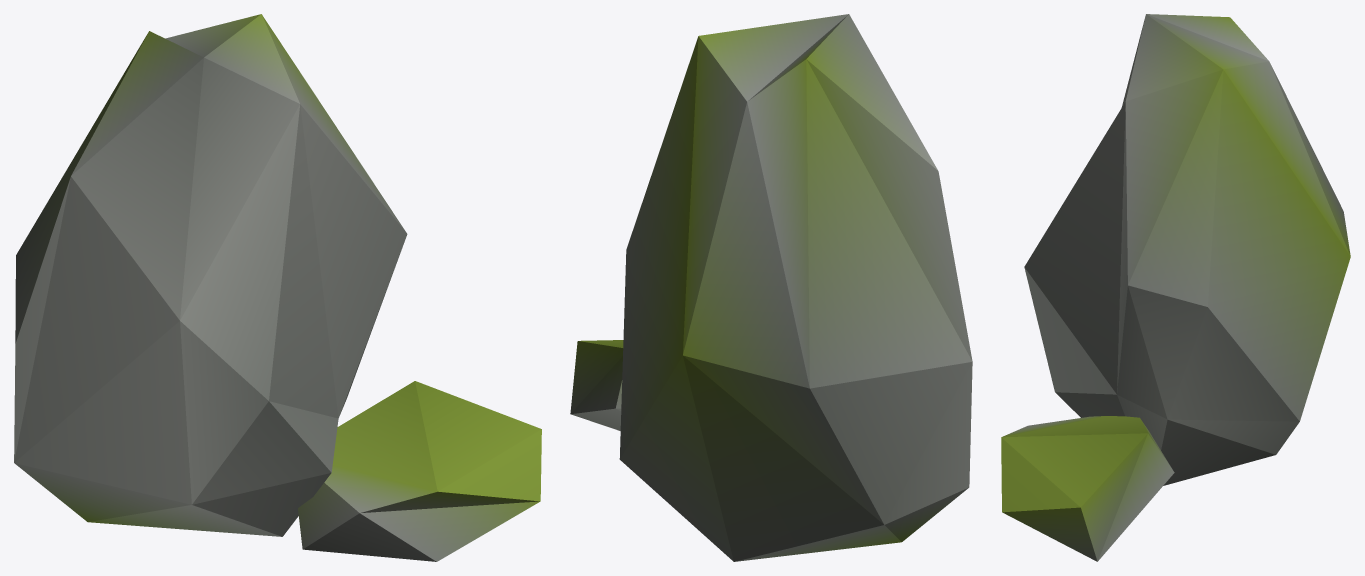
File: zen_rock_moss-lod1.glb
The picture shows the model from 3 angles, left to right: view 1: azimuth 30°, elevation 25°; view 2: azimuth 150°, elevation 25°; view 3: azimuth 270°, elevation 25°; orthographic projection. The views are drawn at different scales.
Parts seen in each view (by area): view 1: zen_rock_moss; view 2: zen_rock_moss; view 3: zen_rock_moss.
Boxes of the visible parts, x1,y1,x2,y2 form: zen_rock_moss: (14, 14, 541, 561); zen_rock_moss: (570, 14, 972, 561); zen_rock_moss: (1001, 14, 1350, 561).
Bounding box in the file's own units: 1.78 × 1.88 × 1.35.
